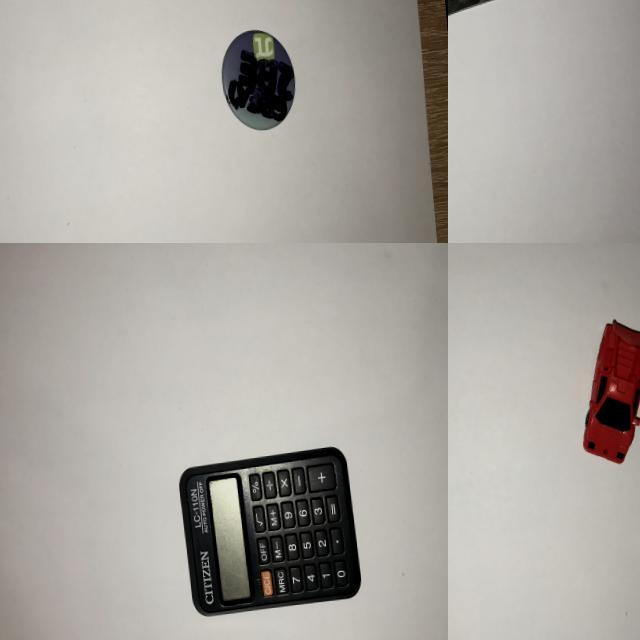calculator: (166, 438, 374, 631)
car: (565, 312, 640, 473)
icon: (212, 18, 304, 142)
scissors: (448, 0, 616, 117)
